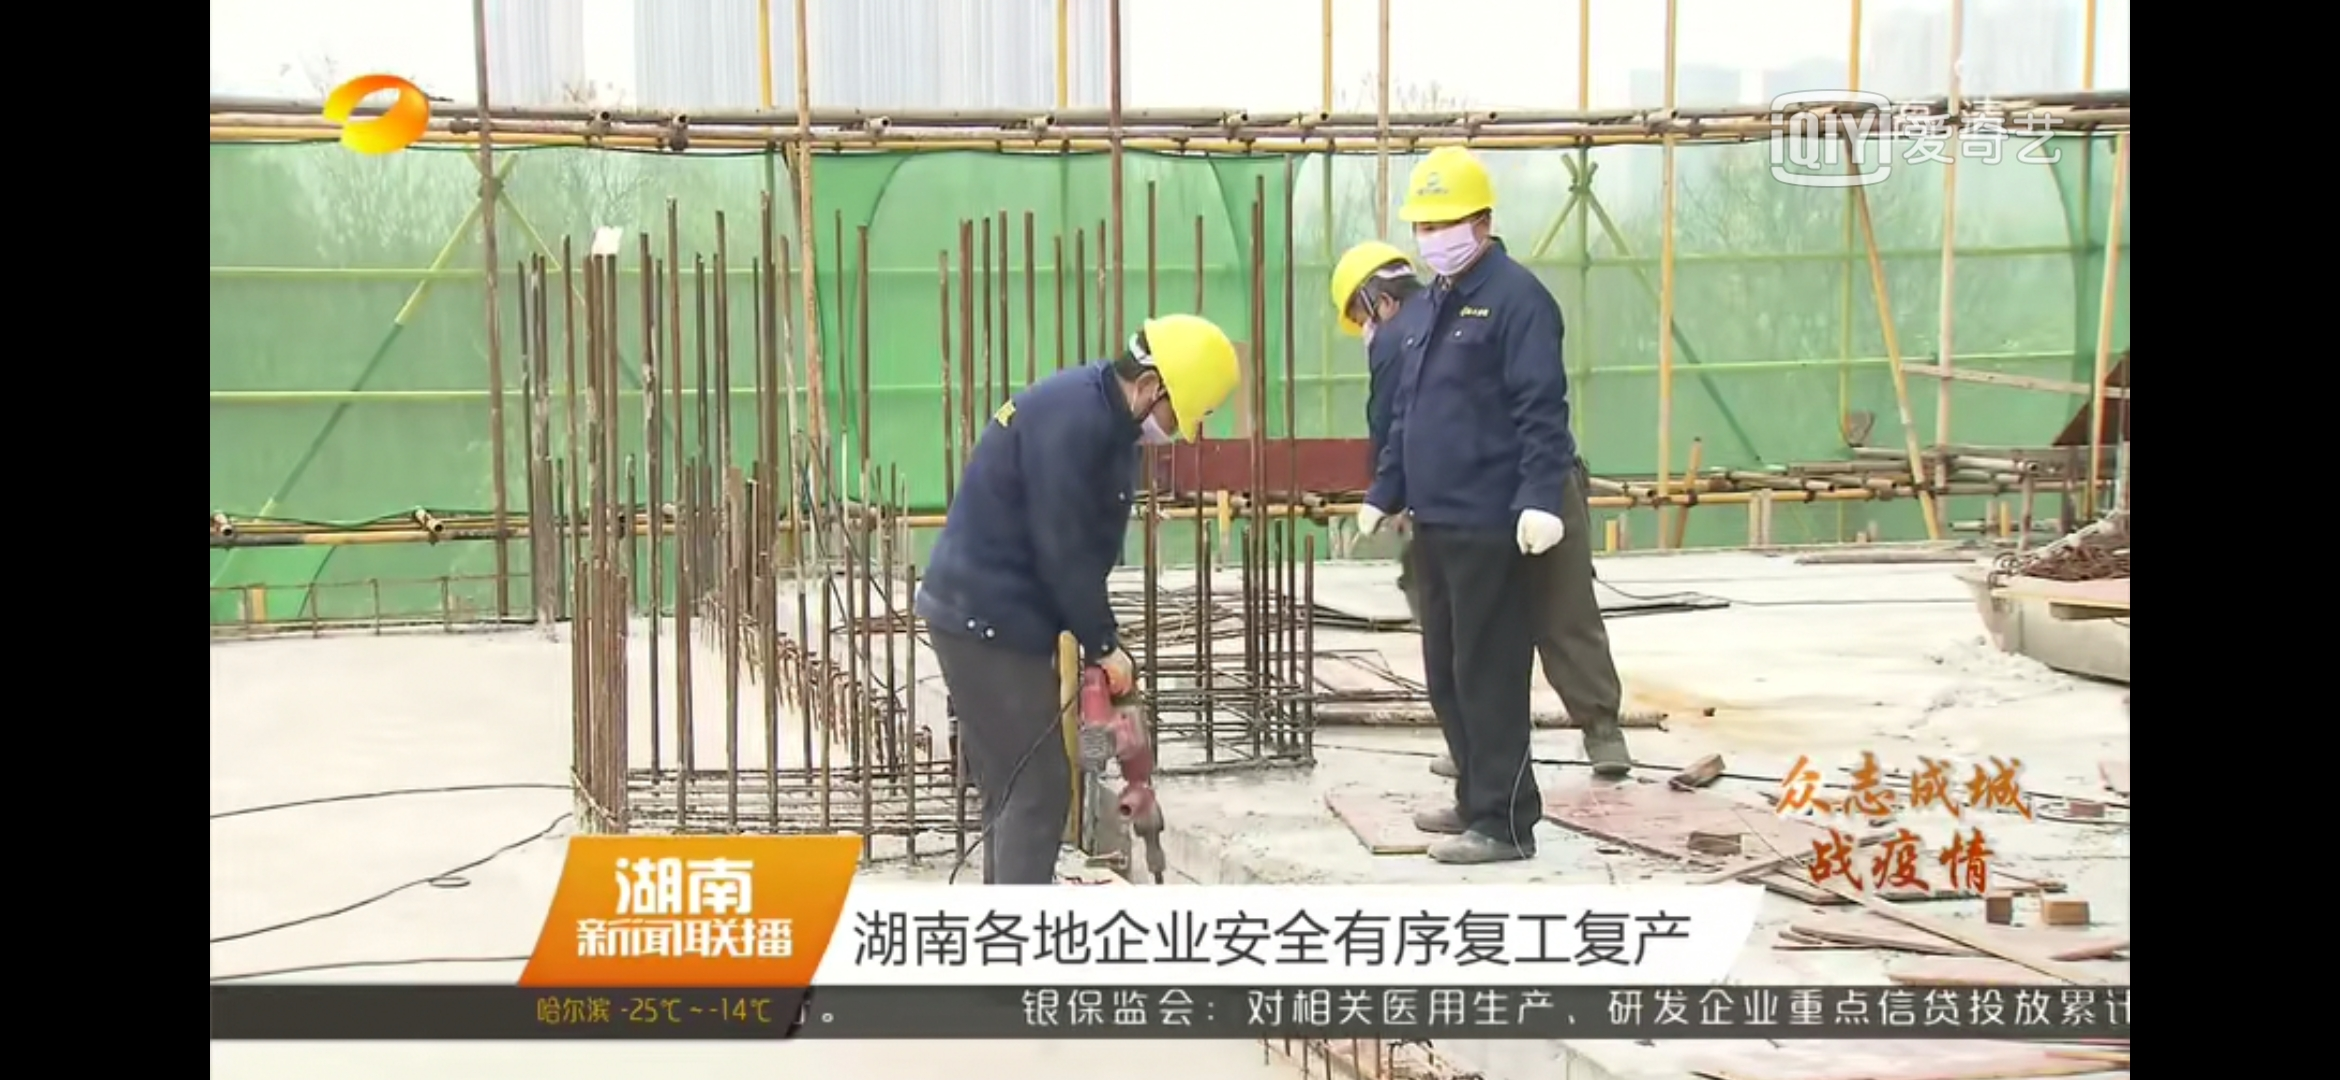correctlyWear: (1406, 192, 1498, 283), (1118, 360, 1204, 452), (1339, 280, 1406, 348)
